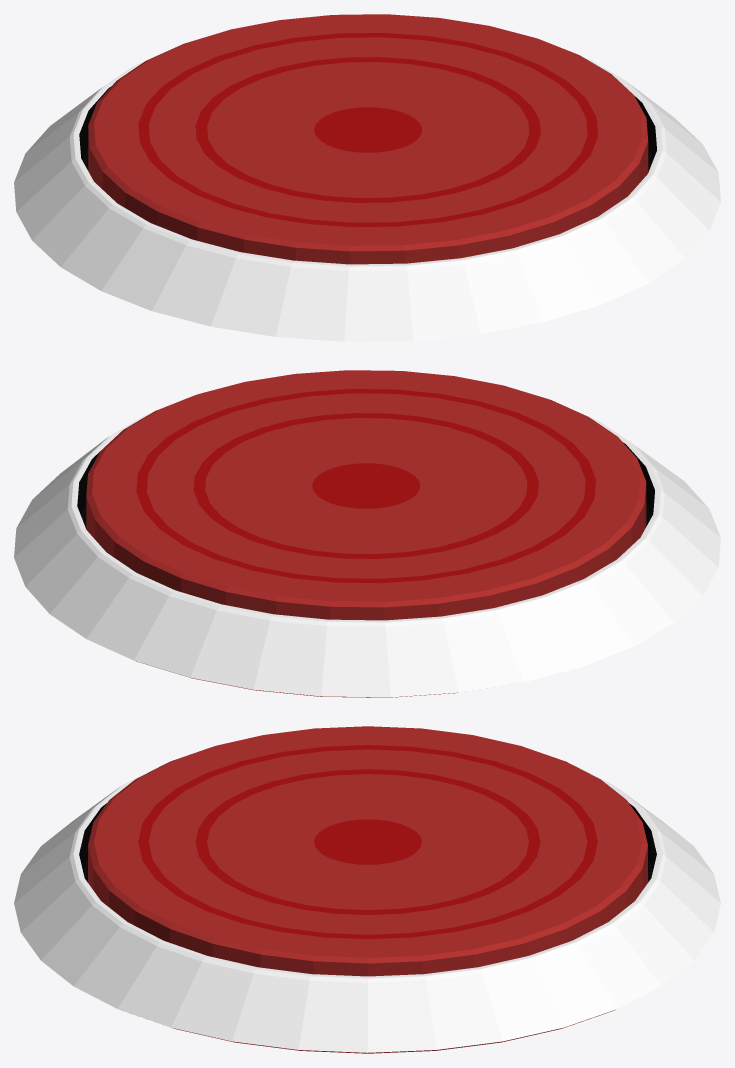
Rendered from Button.fbx.
The picture shows the model from 3 angles, top to bottom: view 1: azimuth 30°, elevation 25°; view 2: azimuth 150°, elevation 25°; view 3: azimuth 270°, elevation 25°; orthographic projection.
Visible parts, largest first — view 1: Button; view 2: Button; view 3: Button.
Boxes of the visible parts, x1,y1,x2,y2 form: Button: (14,14,720,341); Button: (14,370,720,697); Button: (14,726,720,1053).
Bounding box in the file's own units: 820 × 82.61 × 820.
